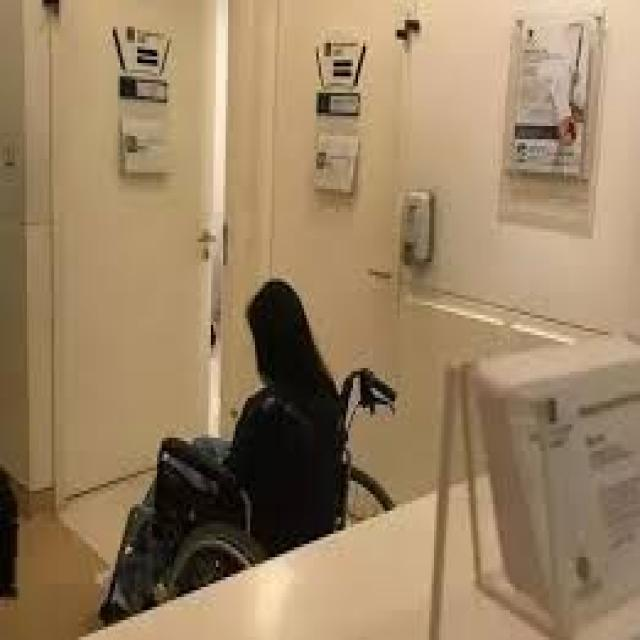wheelchairs: (93, 348, 424, 617)
